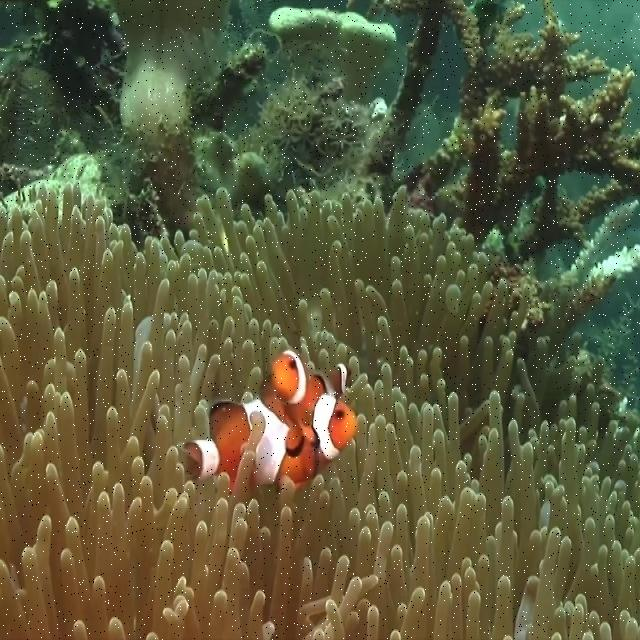fish: (182, 395, 358, 493), (262, 337, 351, 457)
reefs: (1, 180, 639, 639), (35, 0, 639, 335)
